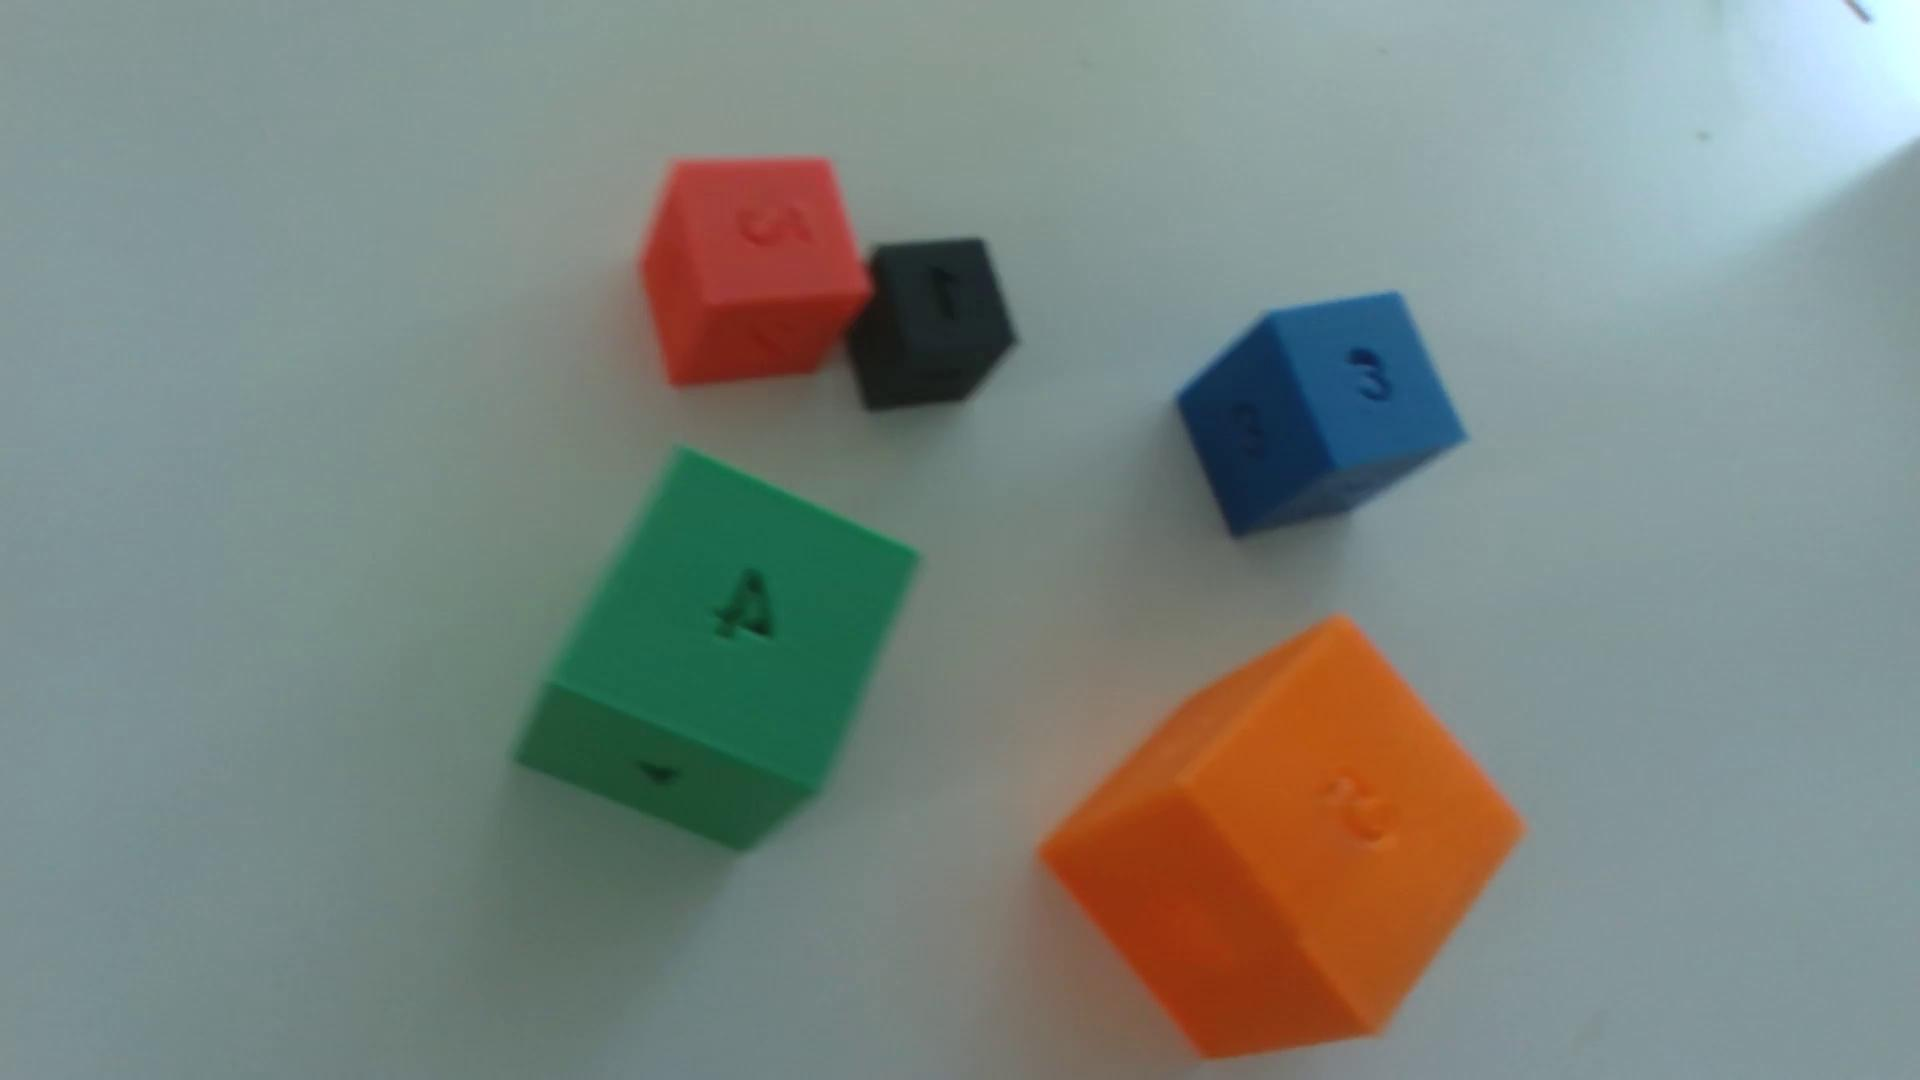black: (847, 239, 1017, 413)
blue: (1176, 293, 1466, 538)
green: (516, 451, 916, 851)
orange: (1042, 618, 1522, 1058)
red: (640, 158, 872, 388)
